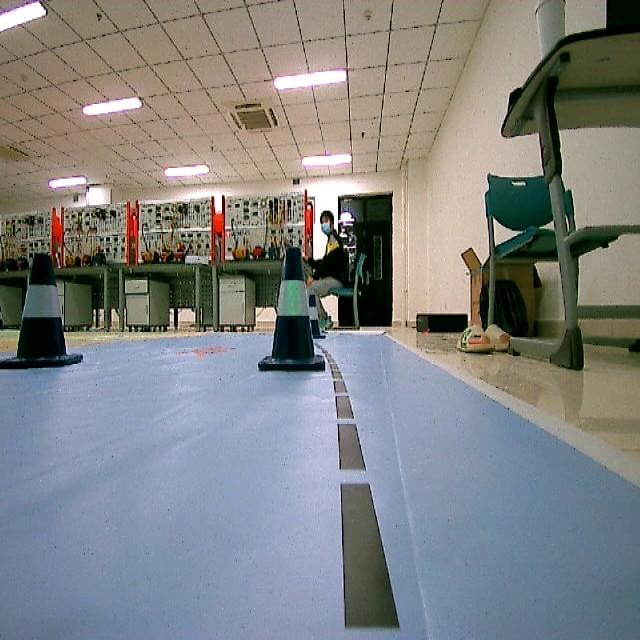obstacle: (0, 252, 80, 376), (257, 244, 324, 378)
